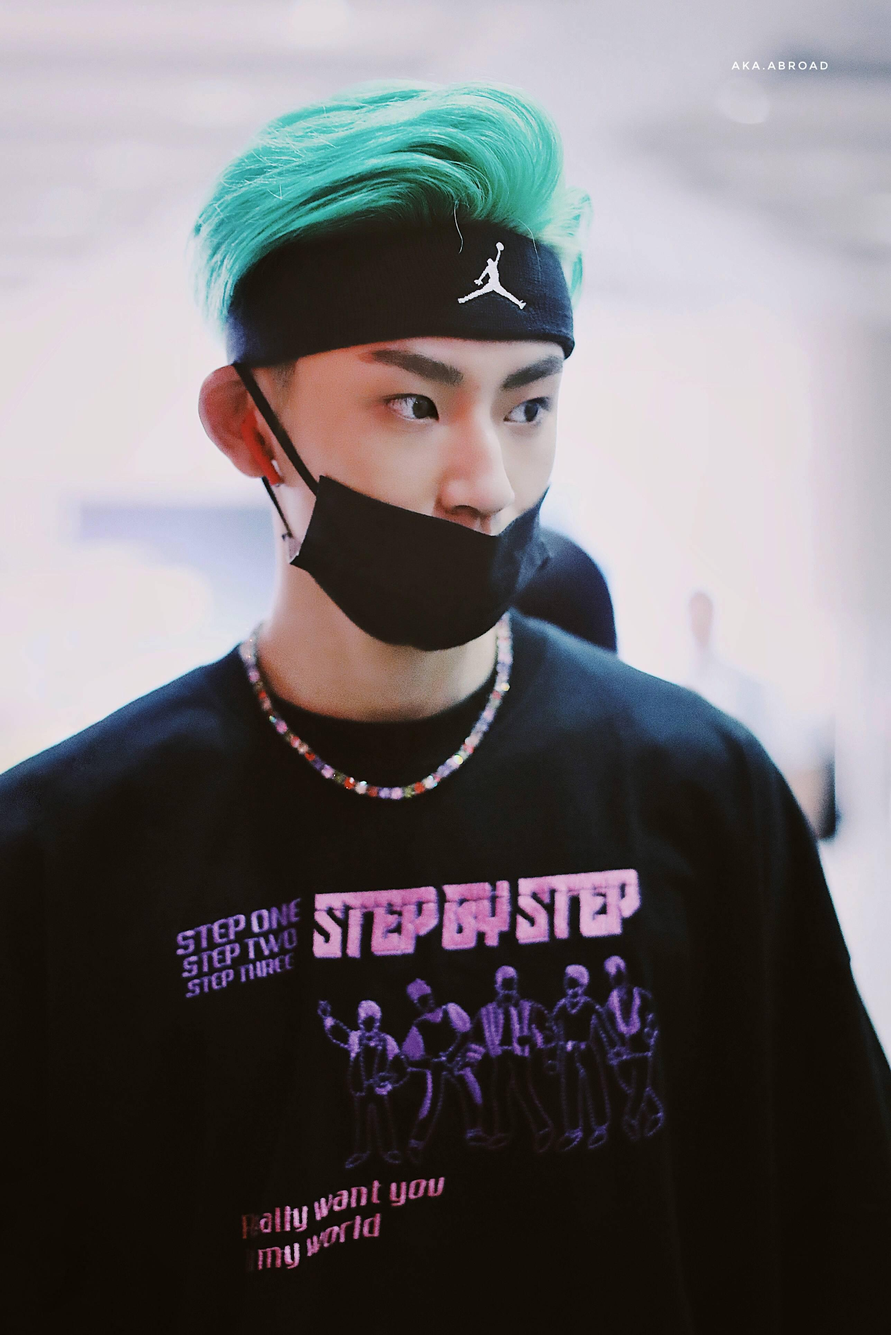WRONG: (288, 320, 565, 652)
